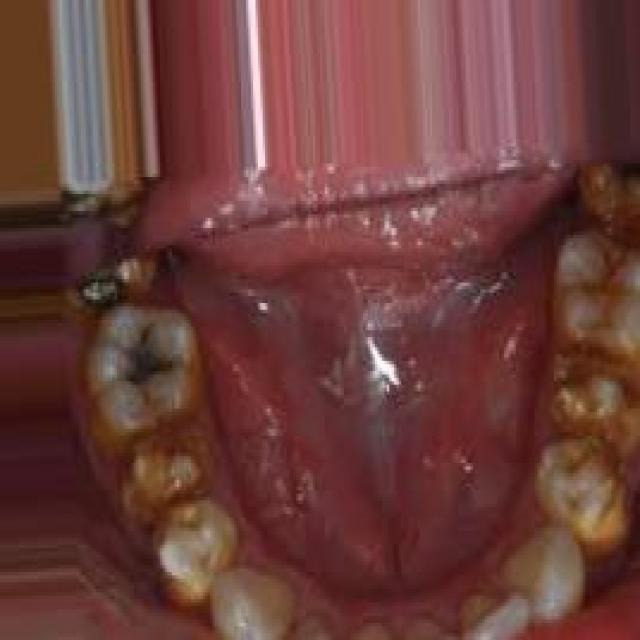caries: (114, 314, 188, 413)
